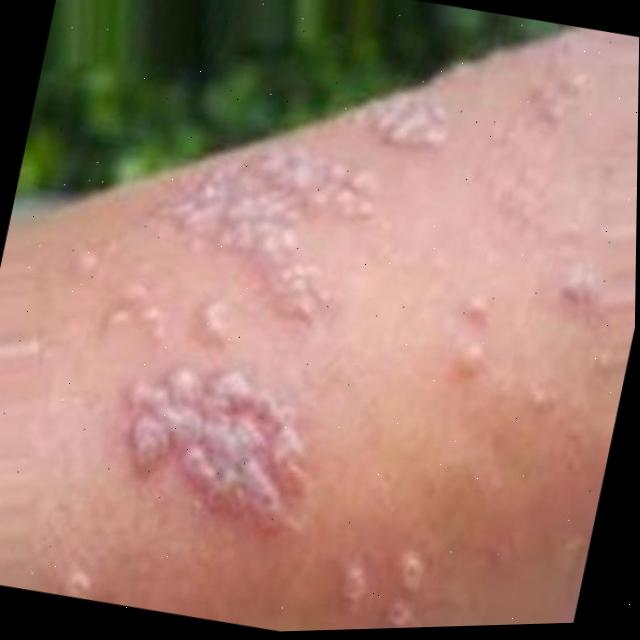Shingles: (100, 44, 457, 551), (334, 541, 426, 630)
